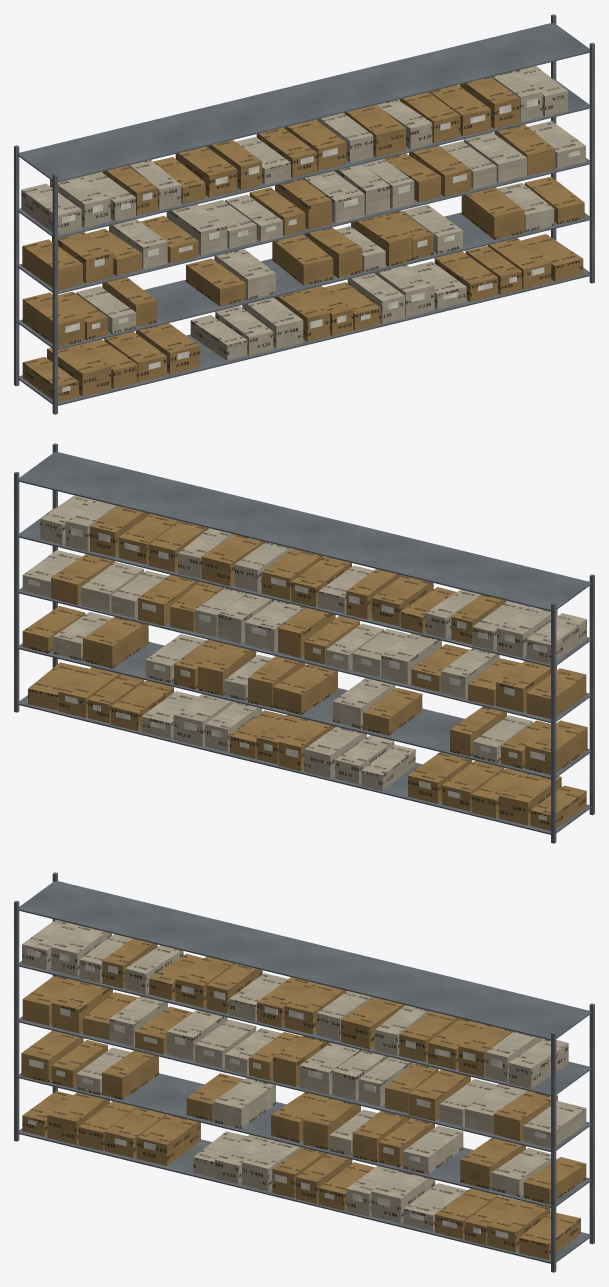
Rendered from archive_shelf.glb.
3 views of the same model, one above another, from view 1: azimuth 30°, elevation 25°; view 2: azimuth 150°, elevation 25°; view 3: azimuth 330°, elevation 25° (orthographic).
Visible parts, largest first — view 1: archive_shelf; view 2: archive_shelf; view 3: archive_shelf.
Boxes of the visible parts, <box> form: archive_shelf: <box>14,14,594,414</box>; archive_shelf: <box>14,443,594,843</box>; archive_shelf: <box>14,872,594,1272</box>.
Bounding box in the file's own units: 8.05 × 3.4 × 1.05.
4 materials, 4 textured.
